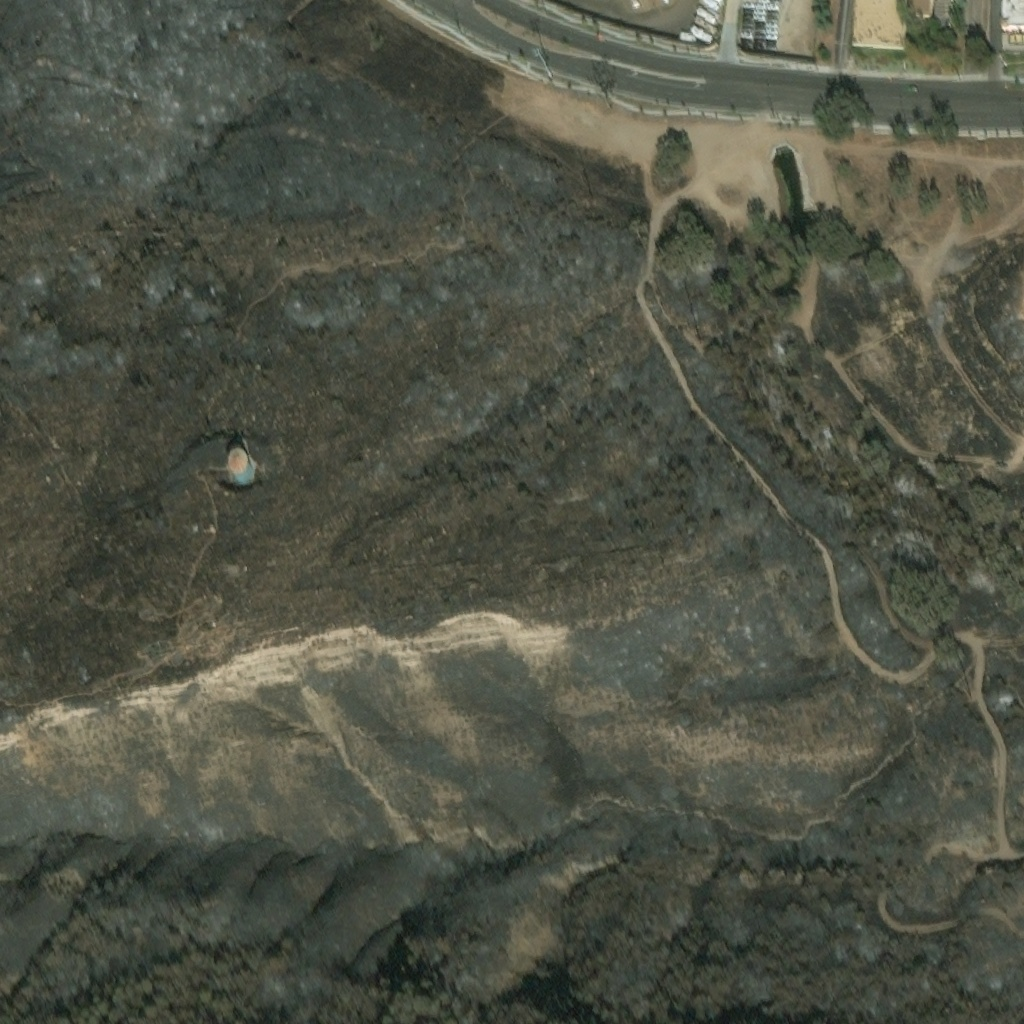0 no-damage: (852, 0, 907, 50), (230, 454, 253, 482), (1004, 0, 1023, 29), (905, 0, 935, 17), (1002, 35, 1023, 54), (935, 0, 950, 18), (1003, 21, 1023, 33), (1011, 38, 1017, 45), (1018, 38, 1023, 45)
